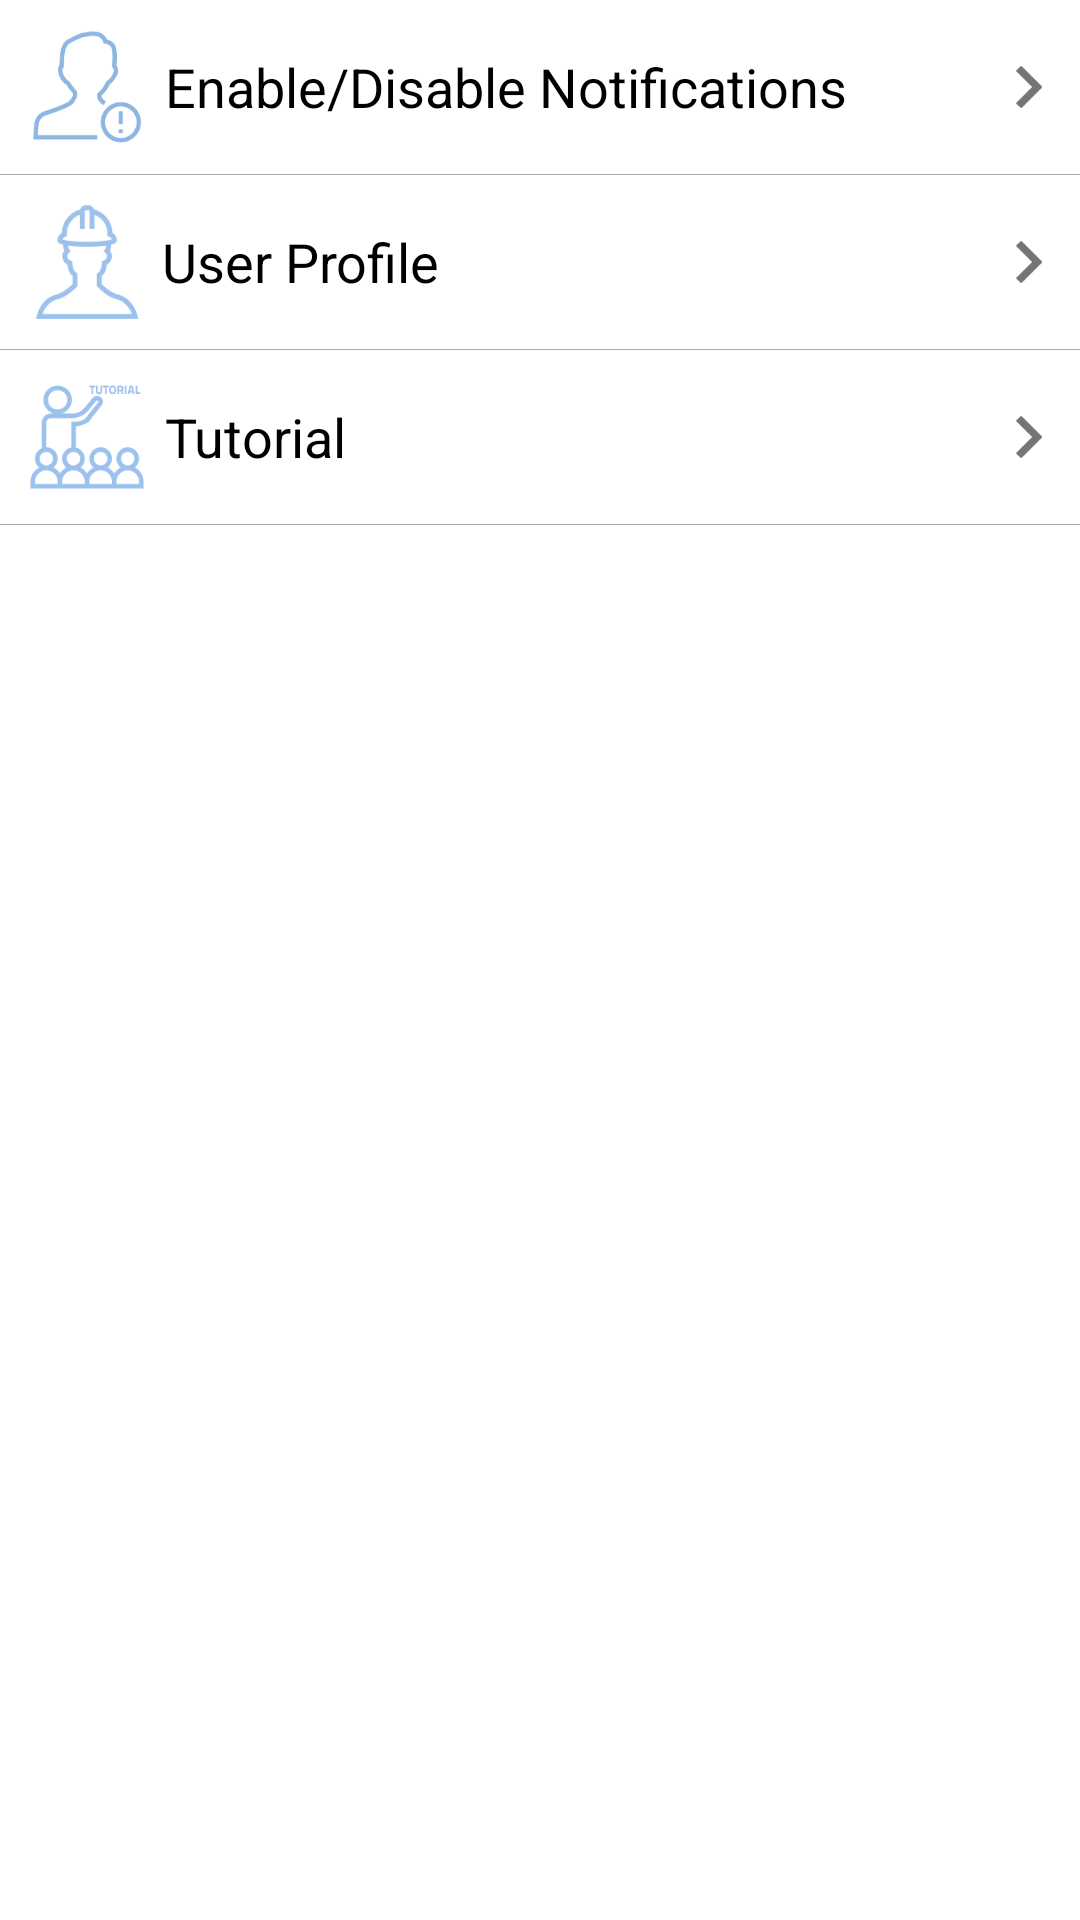

Where icons sit on this 1080px x 1920px app screen, as BBox(x1, y1, x2, y2):
arrow right: BBox(1016, 66, 1042, 108), BBox(1016, 241, 1042, 283), BBox(1016, 416, 1042, 458)
